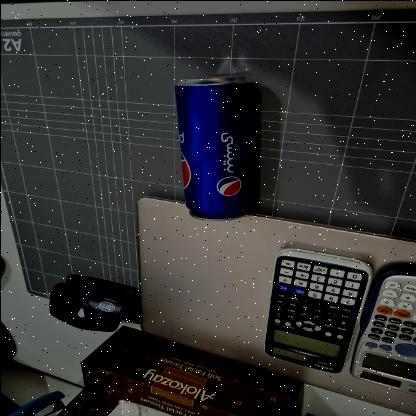Can: (172, 74, 254, 220)
